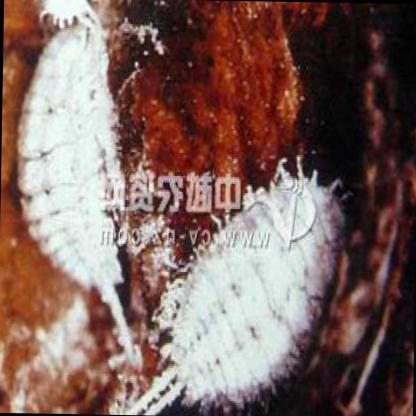mealy bug: (131, 171, 344, 412), (17, 2, 138, 362)
